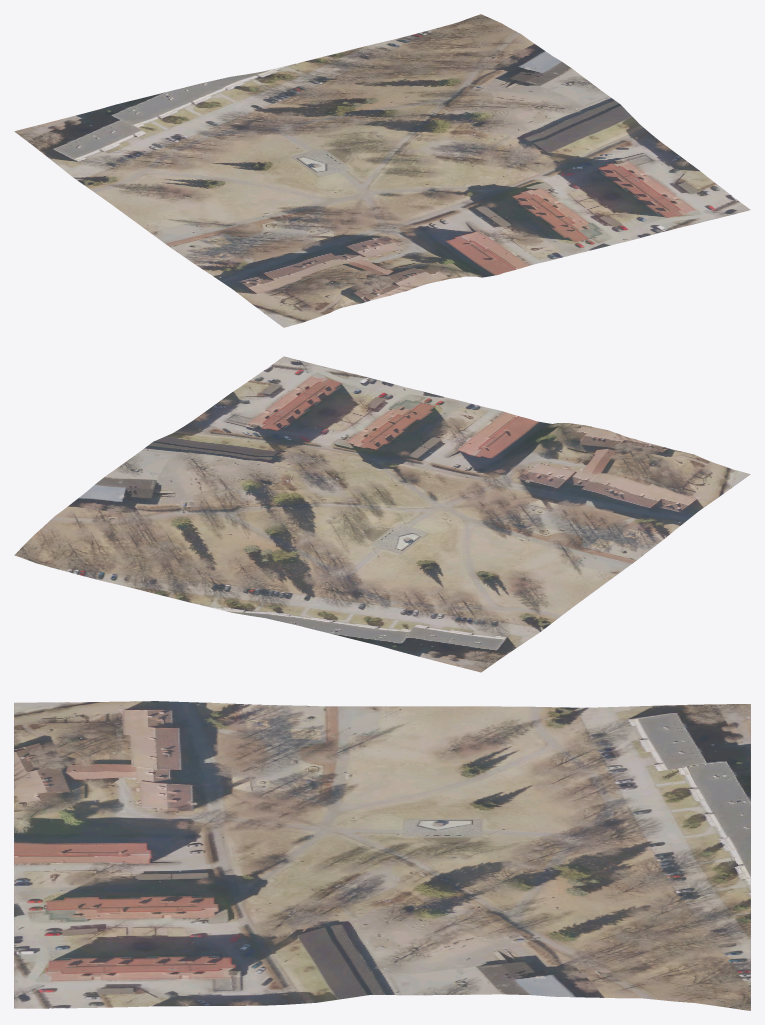
File: CM_Terrain_24488820_6821432.fbx
3 views of the same model, one above another, from view 1: azimuth 30°, elevation 25°; view 2: azimuth 150°, elevation 25°; view 3: azimuth 270°, elevation 25° (orthographic). The views are drawn at different scales.
Visible parts, largest first — view 1: CM_Terrain_24488820_6821432_LOD0; view 2: CM_Terrain_24488820_6821432_LOD0; view 3: CM_Terrain_24488820_6821432_LOD0.
Boxes of the visible parts, x1=… form: CM_Terrain_24488820_6821432_LOD0: x1=14, y1=14, x2=750, y2=327; CM_Terrain_24488820_6821432_LOD0: x1=14, y1=356, x2=750, y2=672; CM_Terrain_24488820_6821432_LOD0: x1=14, y1=701, x2=750, y2=1010.
Size of what is drawn, in the model's own units: 205 by 8.41 by 205.
